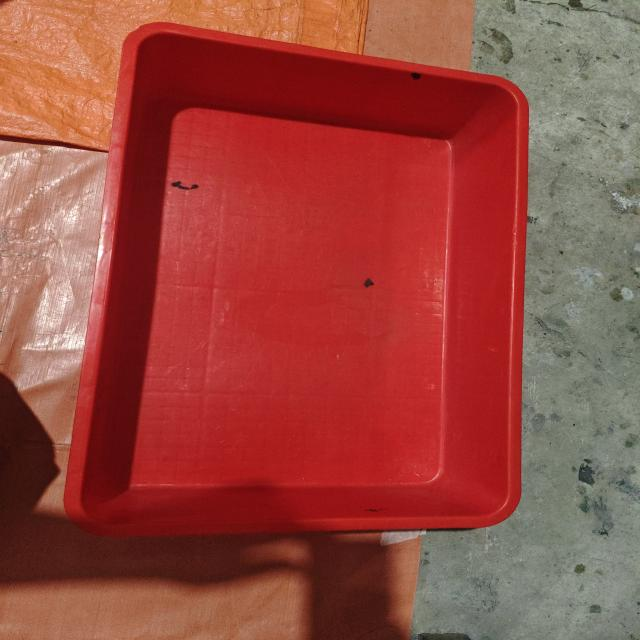red plastic box: (63, 22, 529, 536)
